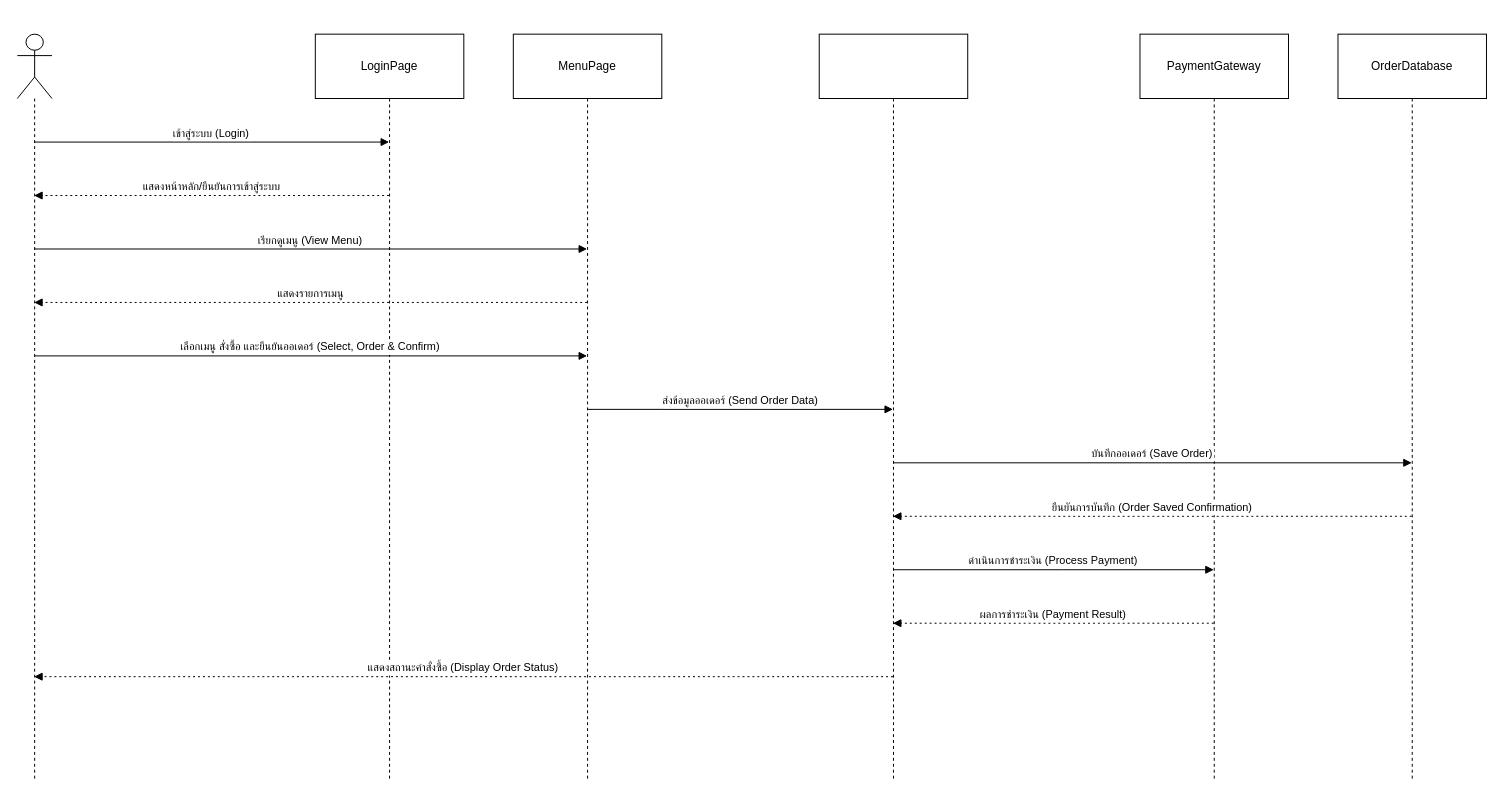
Image size: 1504x798. Some labels were removed from this diagram. Each missing label, with the box of its shape:
OrderService: (818, 33, 968, 781)
ลูกค้า: (16, 33, 52, 781)
